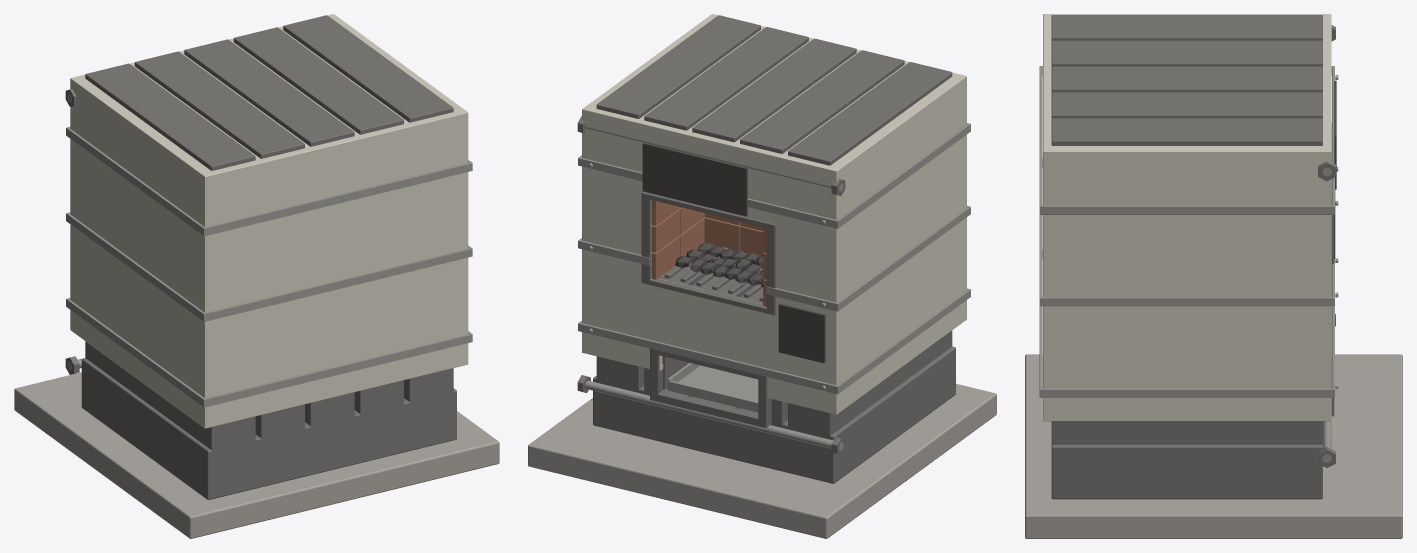
The model's file is boiler_body.glb.
3 views of the same model, side by side, from view 1: azimuth 30°, elevation 25°; view 2: azimuth 150°, elevation 25°; view 3: azimuth 270°, elevation 25° (orthographic). The views are drawn at different scales.
Parts seen in each view (by area): view 1: Jacket, Iron, Hearth, Steel; view 2: Jacket, Iron, Hearth, Steel, Soot, Lining, LiveCoal; view 3: Jacket, Iron, Hearth, Steel.
Part boxes in pixels (<box>): Jacket: <box>70,14,468,428</box>; Iron: <box>65,15,456,499</box>; Hearth: <box>14,372,499,538</box>; Steel: <box>66,94,472,407</box>; Jacket: <box>582,14,966,414</box>; Iron: <box>577,15,955,483</box>; Hearth: <box>528,383,996,538</box>; Steel: <box>578,123,970,450</box>; Soot: <box>642,143,825,363</box>; Lining: <box>651,200,766,306</box>; LiveCoal: <box>675,242,763,287</box>; Jacket: <box>1043,14,1331,421</box>; Iron: <box>1051,15,1335,499</box>; Hearth: <box>1025,354,1402,538</box>; Steel: <box>1039,66,1338,463</box>.
Bounding box in the file's own units: 1.44 × 1.58 × 1.42.
